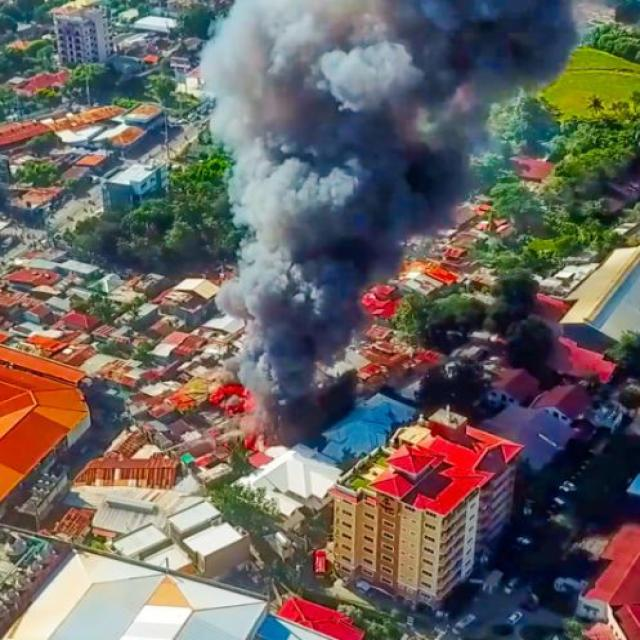Smoke: (198, 0, 490, 441)
